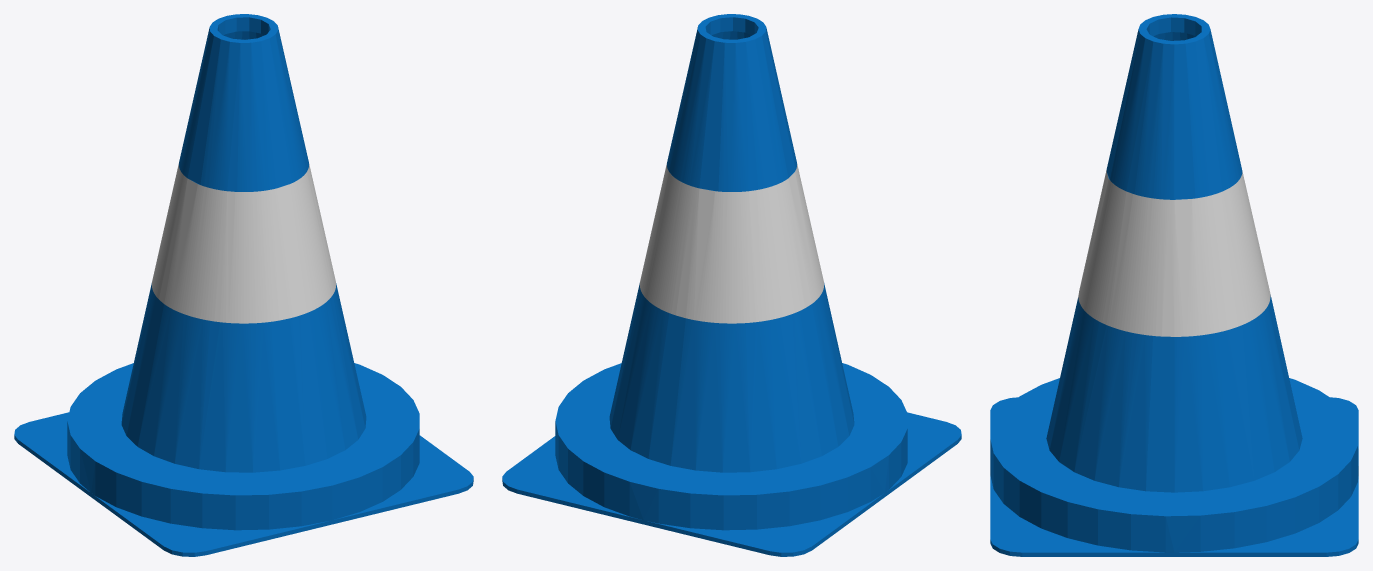
Rendered from blueCone.dae.
3 views of the same model, side by side, from view 1: azimuth 30°, elevation 25°; view 2: azimuth 150°, elevation 25°; view 3: azimuth 270°, elevation 25° (orthographic). The views are drawn at different scales.
Visible parts, largest first — view 1: blue_cone_stl; view 2: blue_cone_stl; view 3: blue_cone_stl.
Part boxes in pixels (x1=…): blue_cone_stl: x1=14, y1=14, x2=473, y2=556; blue_cone_stl: x1=502, y1=14, x2=961, y2=556; blue_cone_stl: x1=990, y1=14, x2=1358, y2=556.
Bounding box in the file's own units: 0.23 × 0.23 × 0.31.
